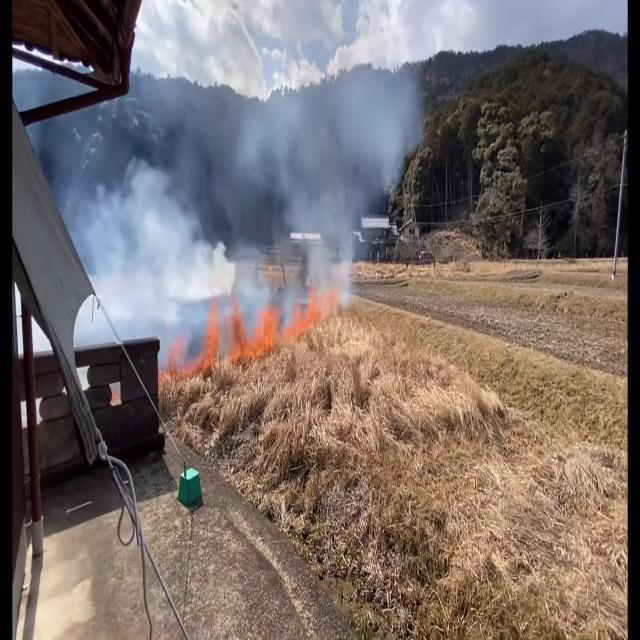Fire: (198, 293, 231, 375), (249, 294, 289, 361), (296, 294, 337, 349)
Smoke: (246, 33, 415, 294), (76, 127, 252, 350)
